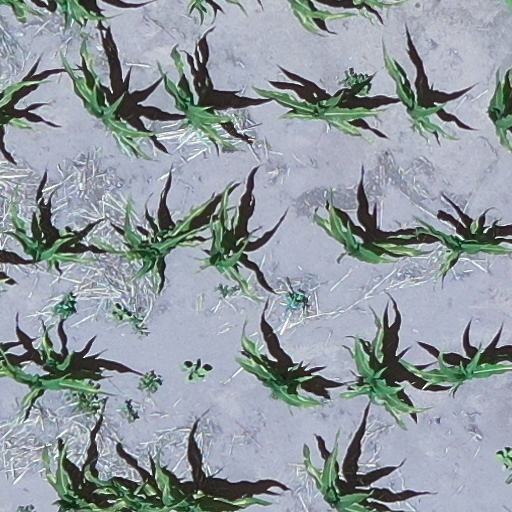planta: (91, 193, 219, 296), (60, 36, 165, 159), (337, 309, 436, 430), (158, 44, 247, 151), (313, 186, 434, 264), (191, 183, 267, 301), (234, 327, 333, 408), (383, 44, 461, 142), (252, 86, 388, 142)
